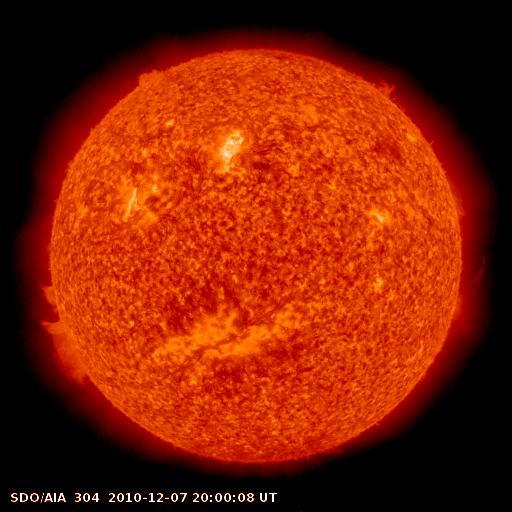prominence: (24, 281, 111, 387), (434, 250, 502, 334), (119, 39, 181, 102), (360, 65, 416, 109), (444, 178, 481, 225)
